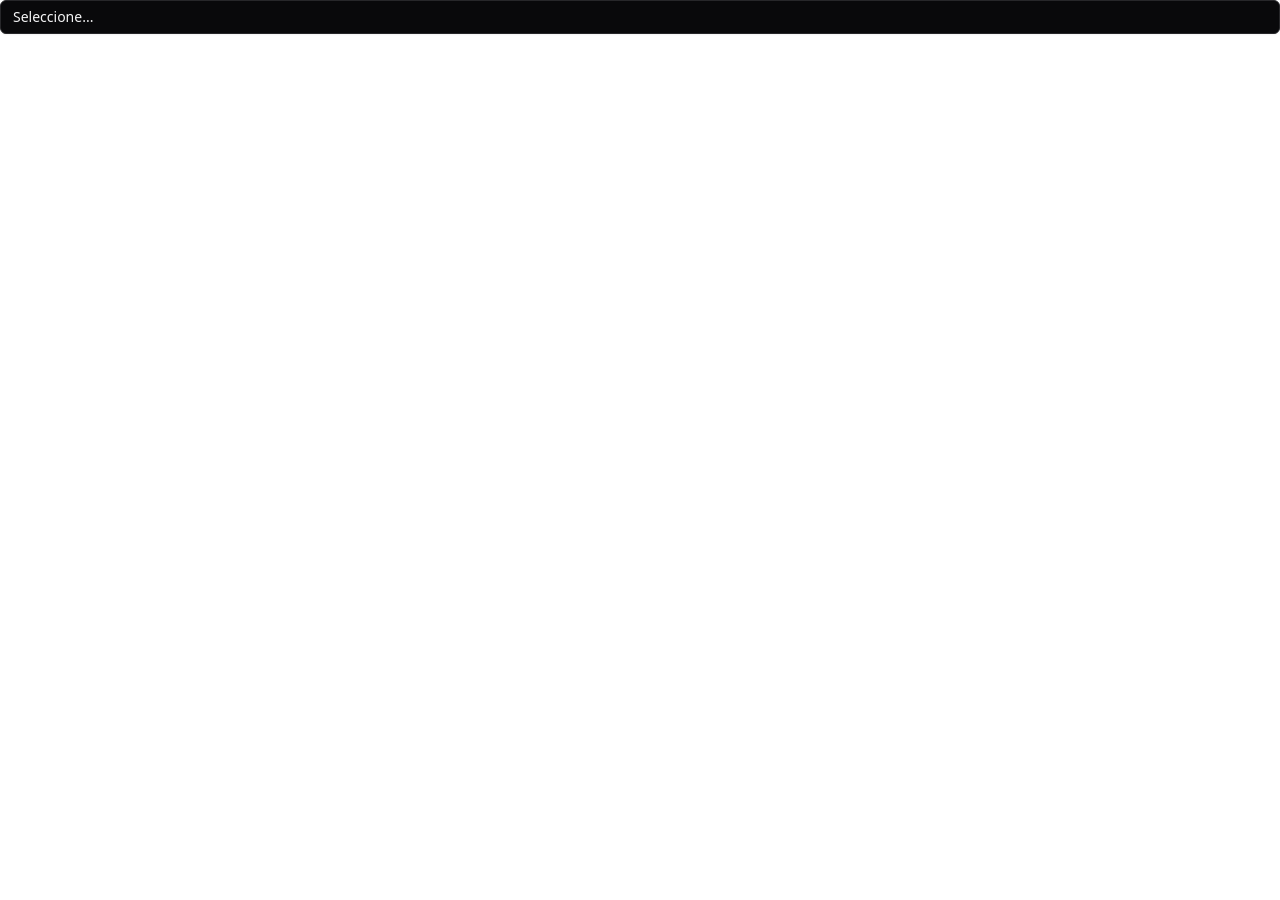
SearchableCombobox › opens a dialog with the search input (placeholder) and every option
Click the button "Seleccione...".
click(53, 16)  # box [13,7,1267,27]
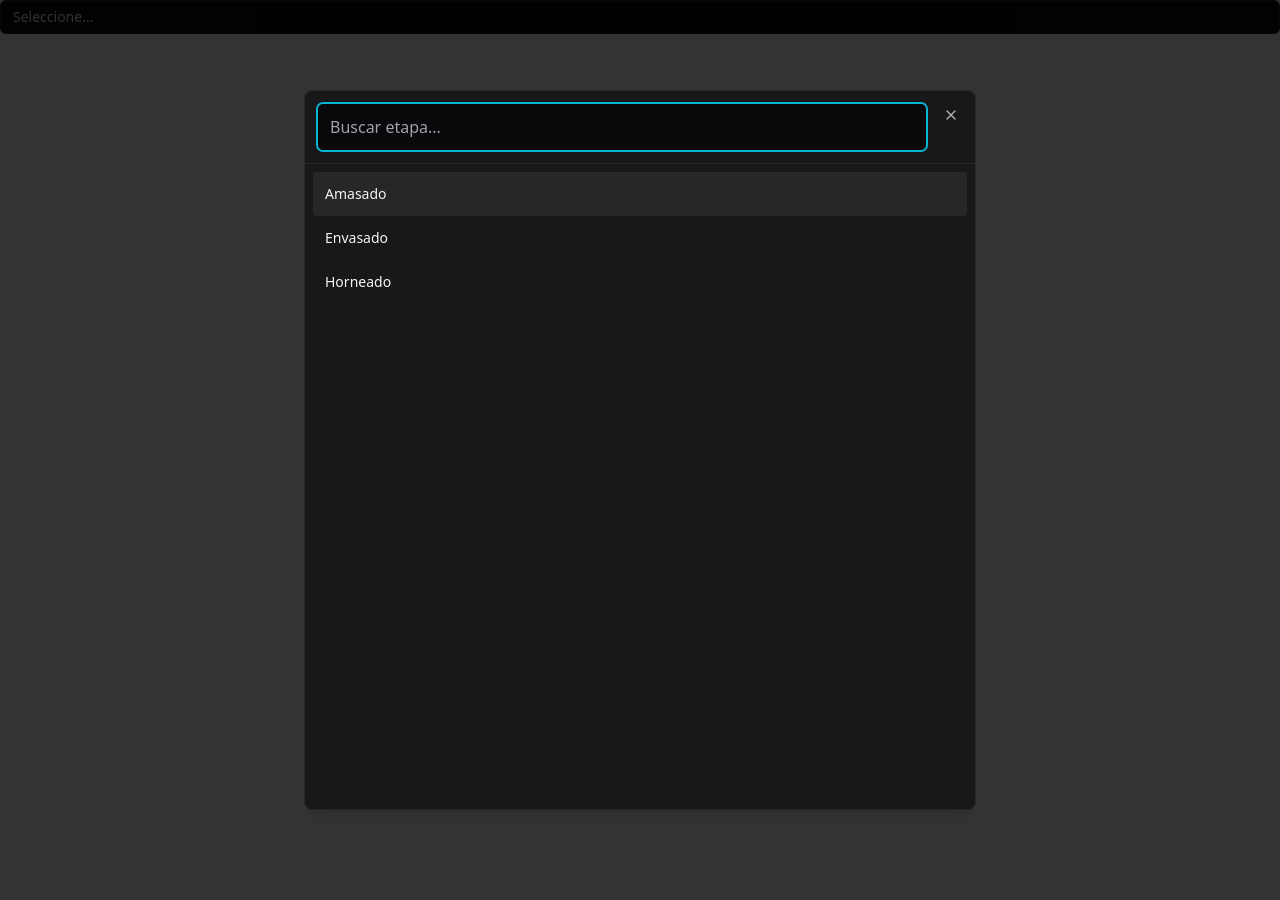
Expected: the dialog is shown, [304,90,976,810]
Expected: the dropdown with placeholder "Buscar etapa..." is shown, [317,103,927,151]
Expected: the options read "Amasado", "Envasado", "Horneado", in this order, [313,172,967,216]; [325,228,388,247]; [325,272,391,291]
